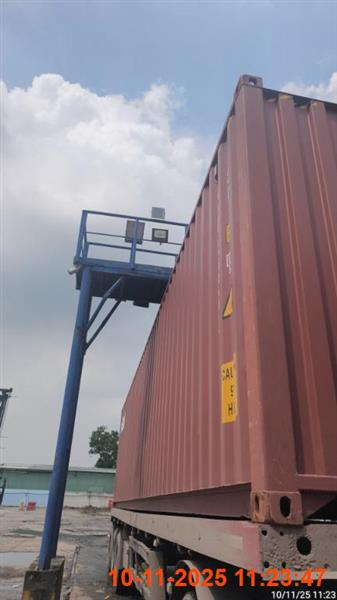broken: (104, 75, 335, 599)
